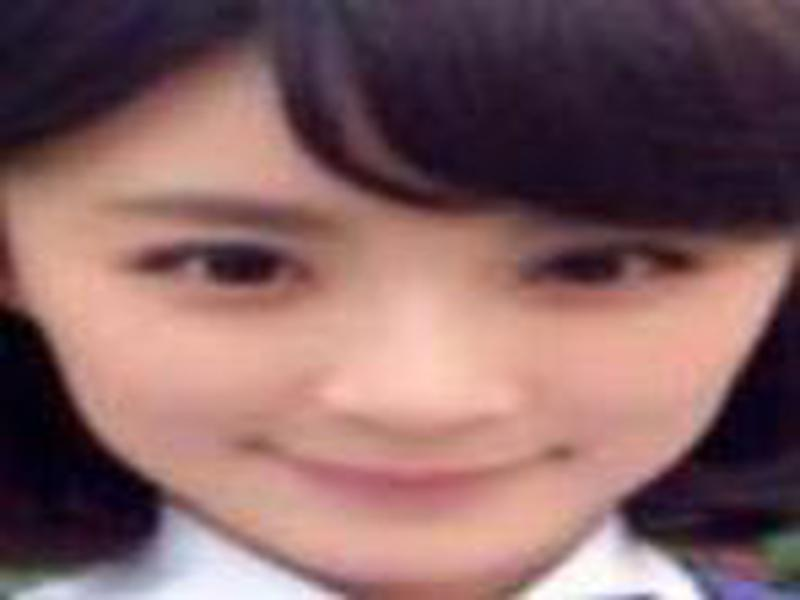without_mask: (8, 119, 791, 600)
